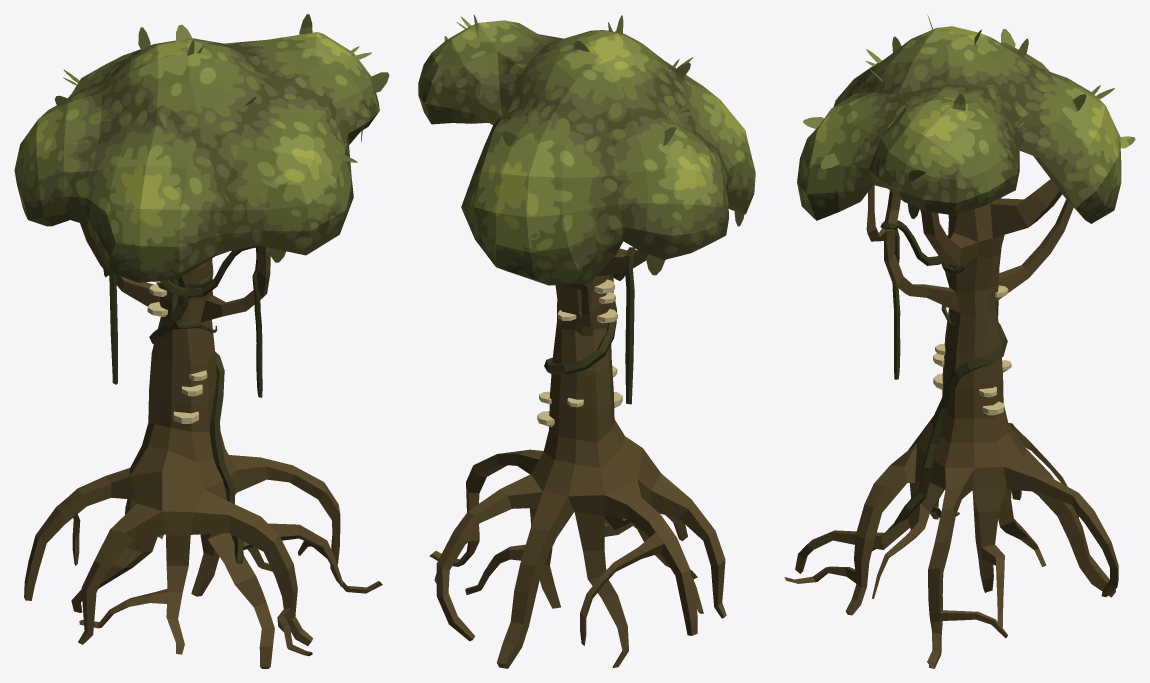
File: jungletree.glb
3 renders of one model, left to right at view 1: azimuth 30°, elevation 25°; view 2: azimuth 150°, elevation 25°; view 3: azimuth 270°, elevation 25°, orthographic. The views are drawn at different scales.
Parts seen in each view (by area): view 1: polySurface4; view 2: polySurface4; view 3: polySurface4.
Boxes of the visible parts, x1,y1,x2,y2 form: polySurface4: (14, 14, 389, 668); polySurface4: (418, 14, 755, 668); polySurface4: (784, 15, 1135, 668).
Bounding box in the file's own units: 18.94 × 33.33 × 18.42.
1 material, 1 textured.
